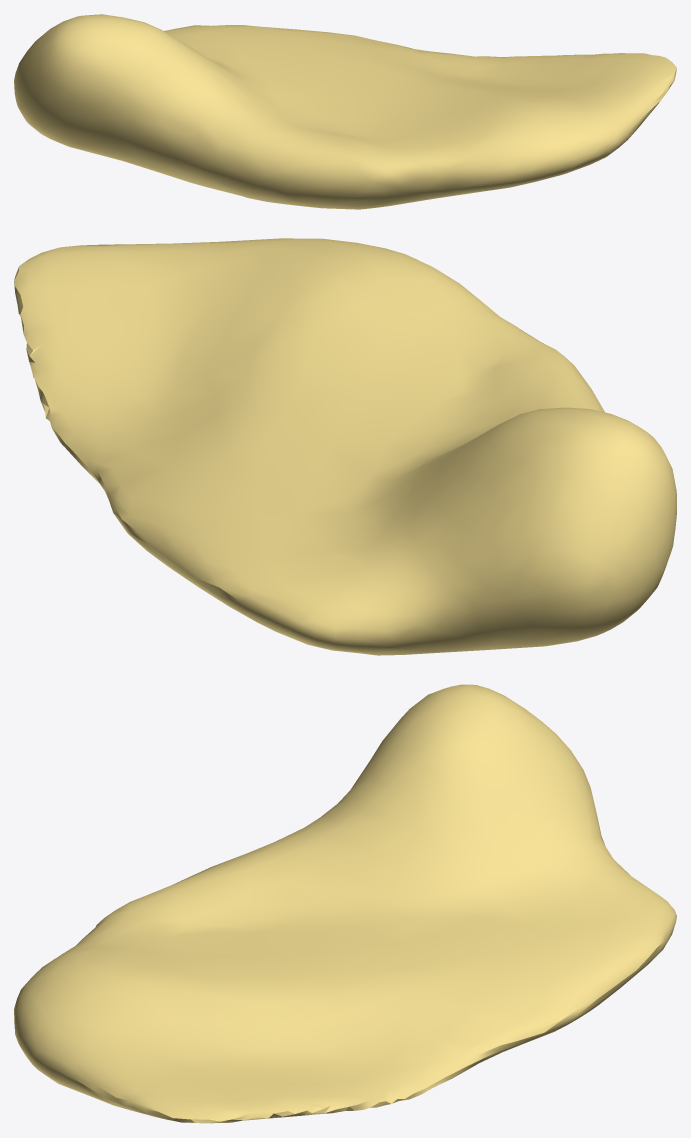
Rendered from fma72842_mm3010m.glb.
The picture shows the model from 3 angles, top to bottom: view 1: azimuth 30°, elevation 25°; view 2: azimuth 150°, elevation 25°; view 3: azimuth 270°, elevation 25°; orthographic projection. The views are drawn at different scales.
Parts seen in each view (by area): view 1: FMA72842_MM3010M; view 2: FMA72842_MM3010M; view 3: FMA72842_MM3010M.
Boxes of the visible parts, x1,y1,x2,y2 form: FMA72842_MM3010M: (14, 14, 676, 209); FMA72842_MM3010M: (14, 238, 676, 655); FMA72842_MM3010M: (14, 684, 676, 1123).
Bounding box in the file's own units: 0.00843 × 0.00252 × 0.00675.
